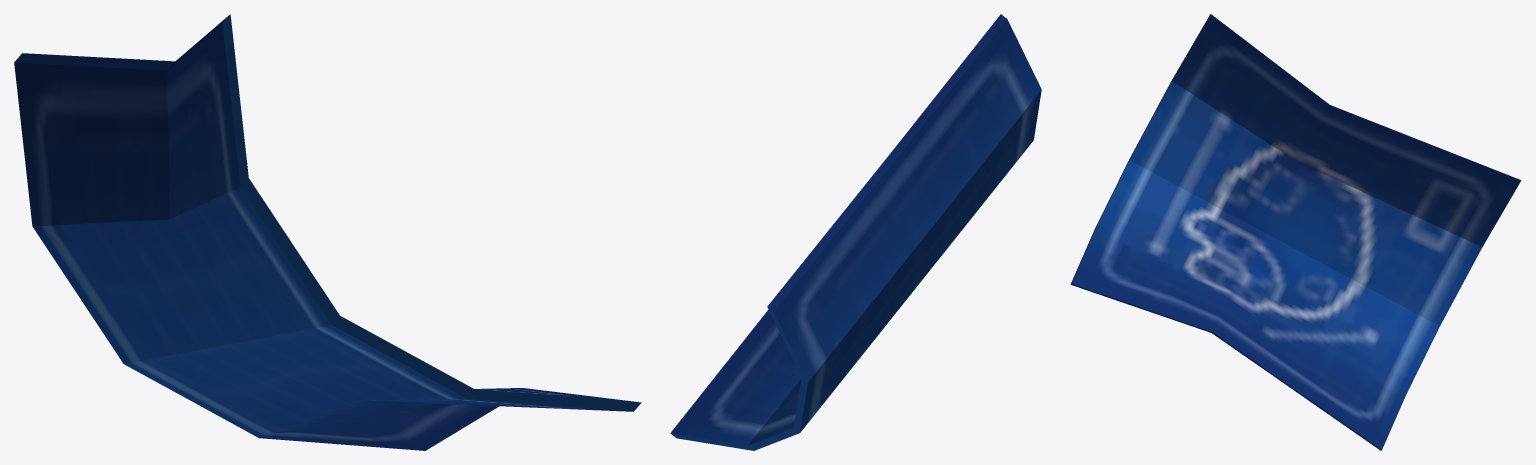
File: mapBluePrint@bluePrint.fbx
3 renders of one model, left to right at view 1: azimuth 30°, elevation 25°; view 2: azimuth 150°, elevation 25°; view 3: azimuth 270°, elevation 25°, orthographic. The views are drawn at different scales.
Visible parts, largest first — view 1: mapBluePrint:bluePrint; view 2: mapBluePrint:bluePrint; view 3: mapBluePrint:bluePrint.
Boxes of the visible parts, x1,y1,x2,y2 form: mapBluePrint:bluePrint: [14, 14, 641, 450]; mapBluePrint:bluePrint: [670, 14, 1041, 450]; mapBluePrint:bluePrint: [1070, 14, 1521, 450].
Size of the model in its own units: 39.03 by 61.23 by 72.72.
